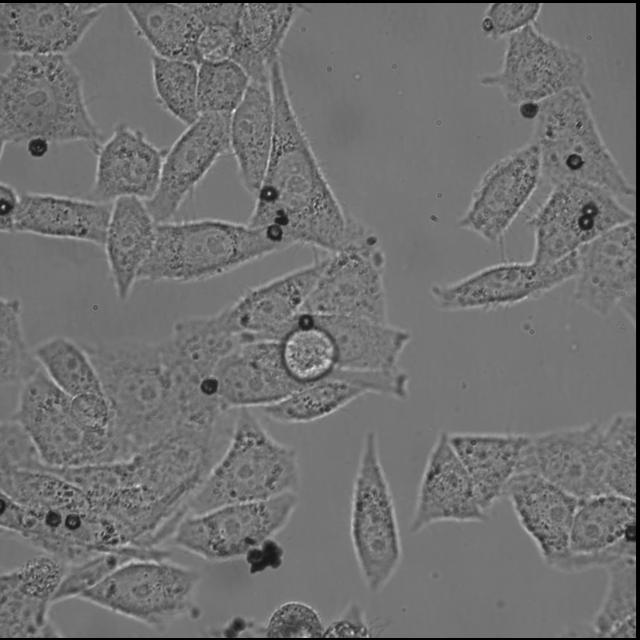microbeads: (30, 138, 48, 158), (582, 199, 600, 217), (576, 212, 594, 230), (45, 508, 61, 528), (202, 377, 218, 395), (567, 150, 583, 168), (264, 182, 278, 200), (522, 101, 536, 119), (267, 225, 281, 241), (65, 514, 79, 530), (300, 311, 312, 327), (0, 198, 10, 215)
